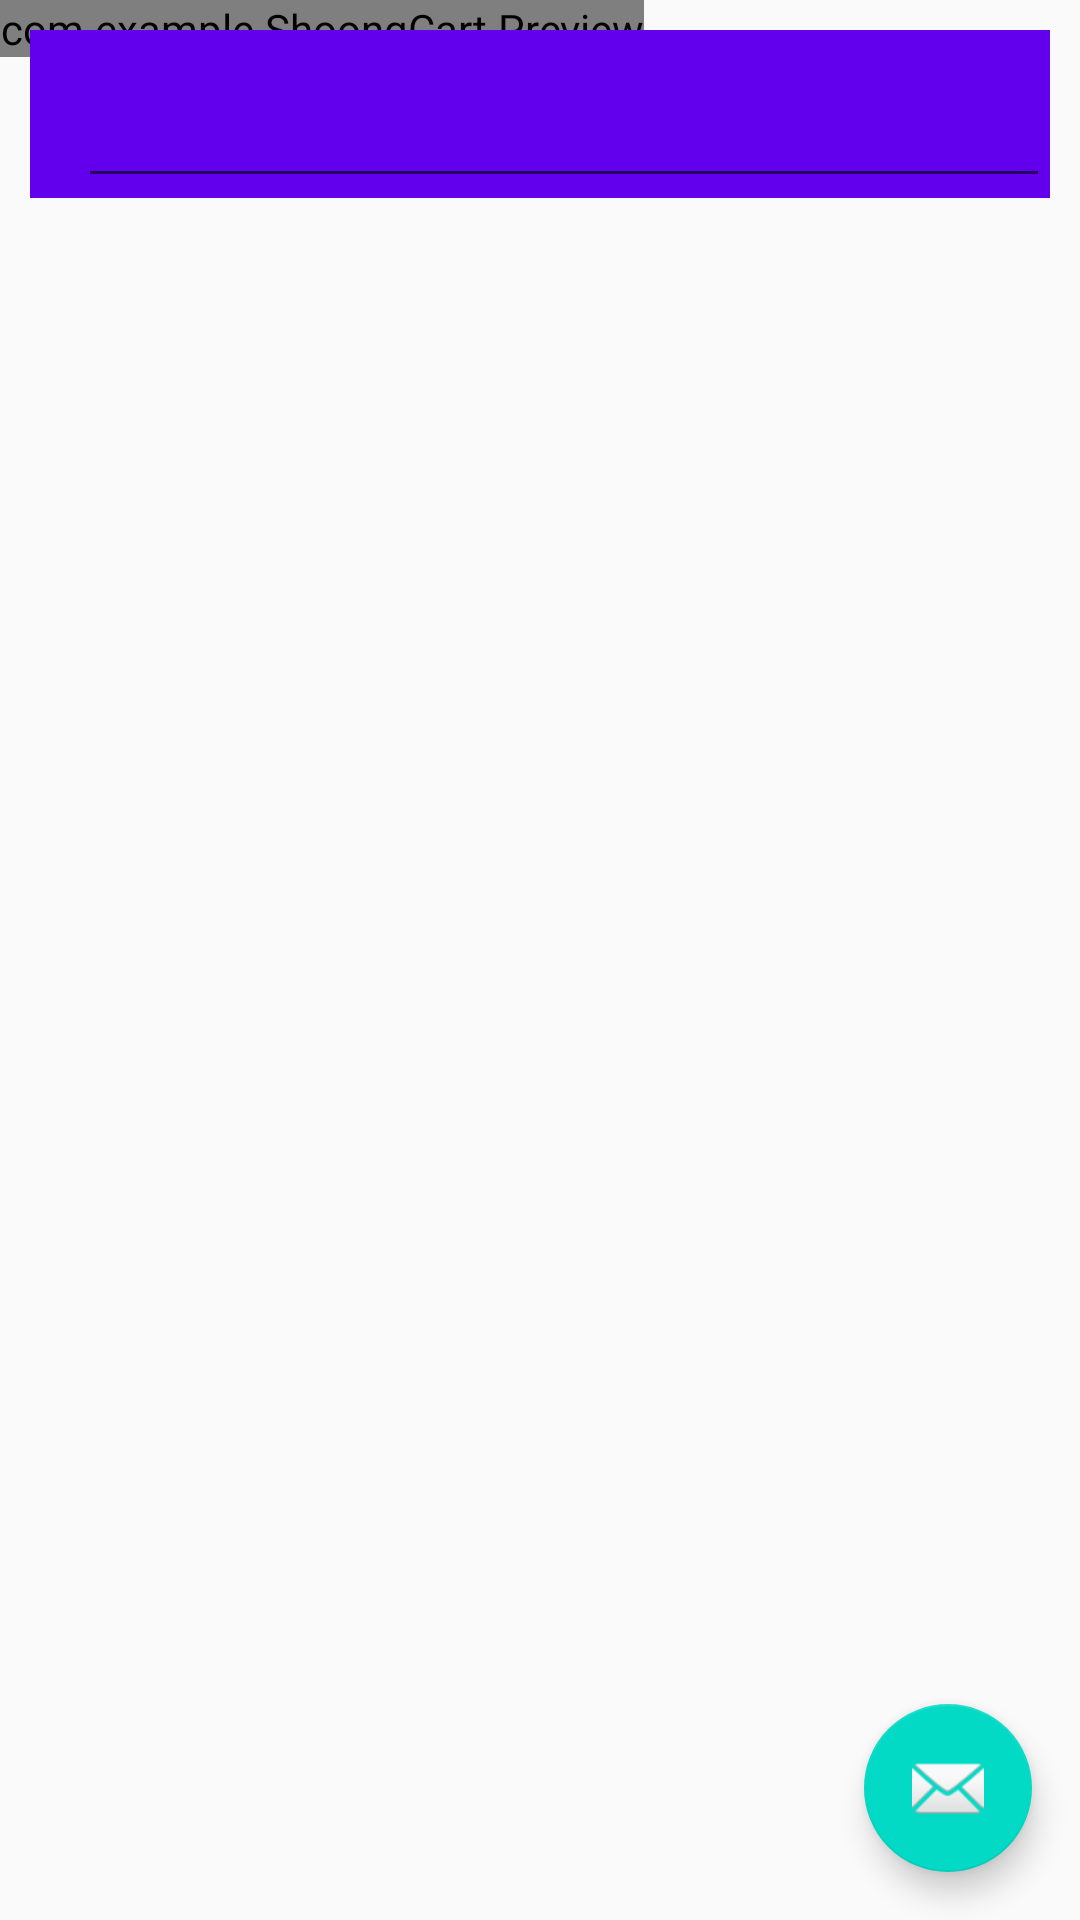

Icon click points for this 1080 x 1920 phone screenshot, format (x=x, y=y):
email: (x=948, y=1788)
